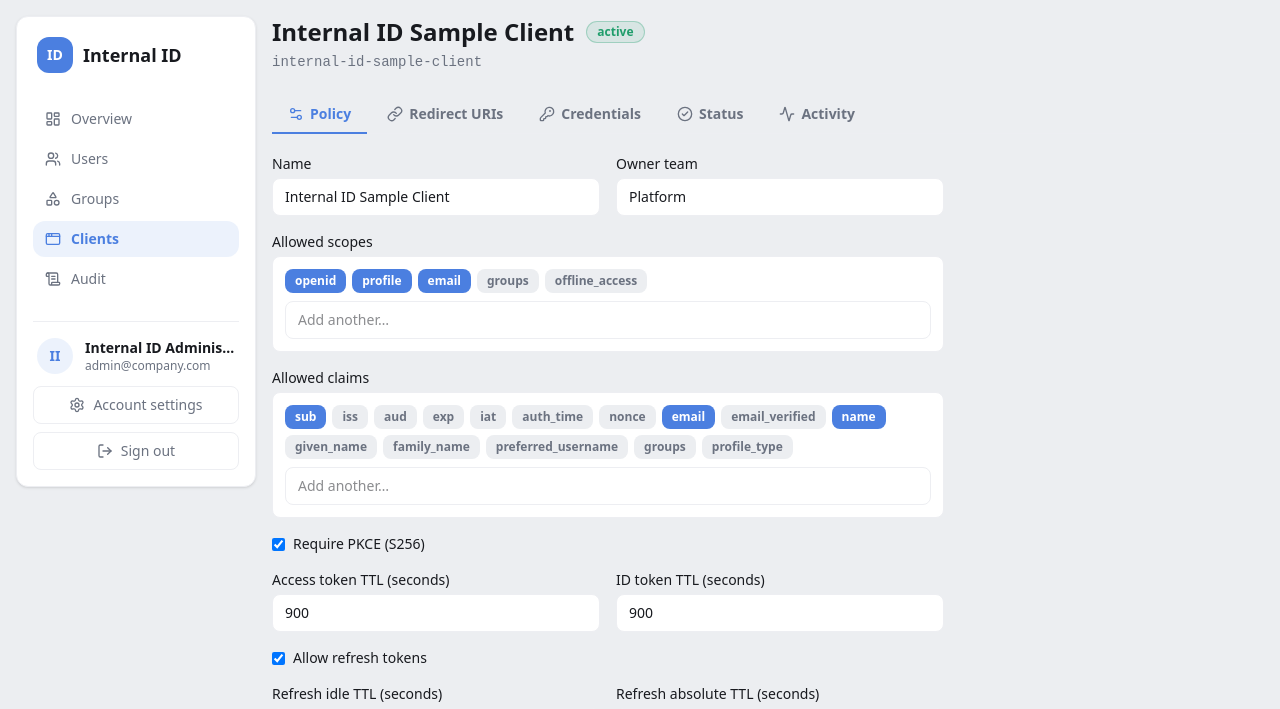
Scenario: rotating a secret confirms then reveals it once
The image size is (1280, 709).
Click the tab "Credentials" at [590, 115], box top-left (523, 96), bottom-right (657, 134)
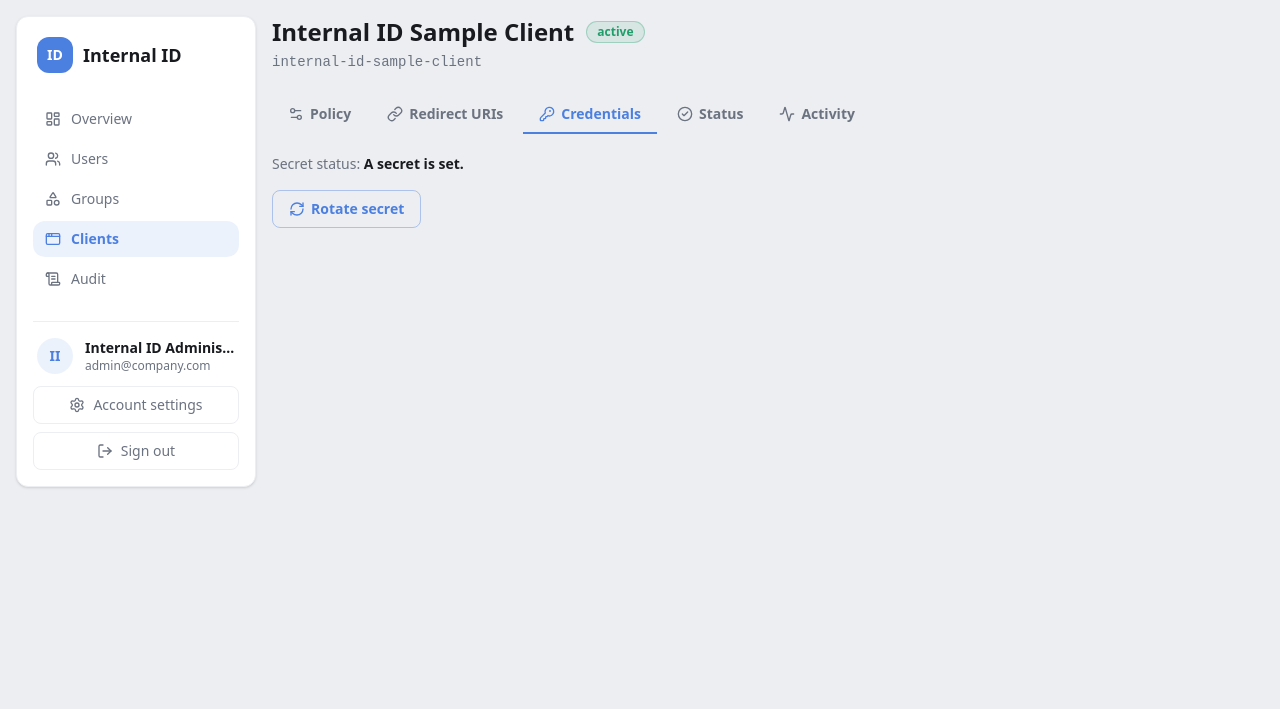
Click the button "Rotate secret" at [347, 209], box top-left (272, 190), bottom-right (421, 228)
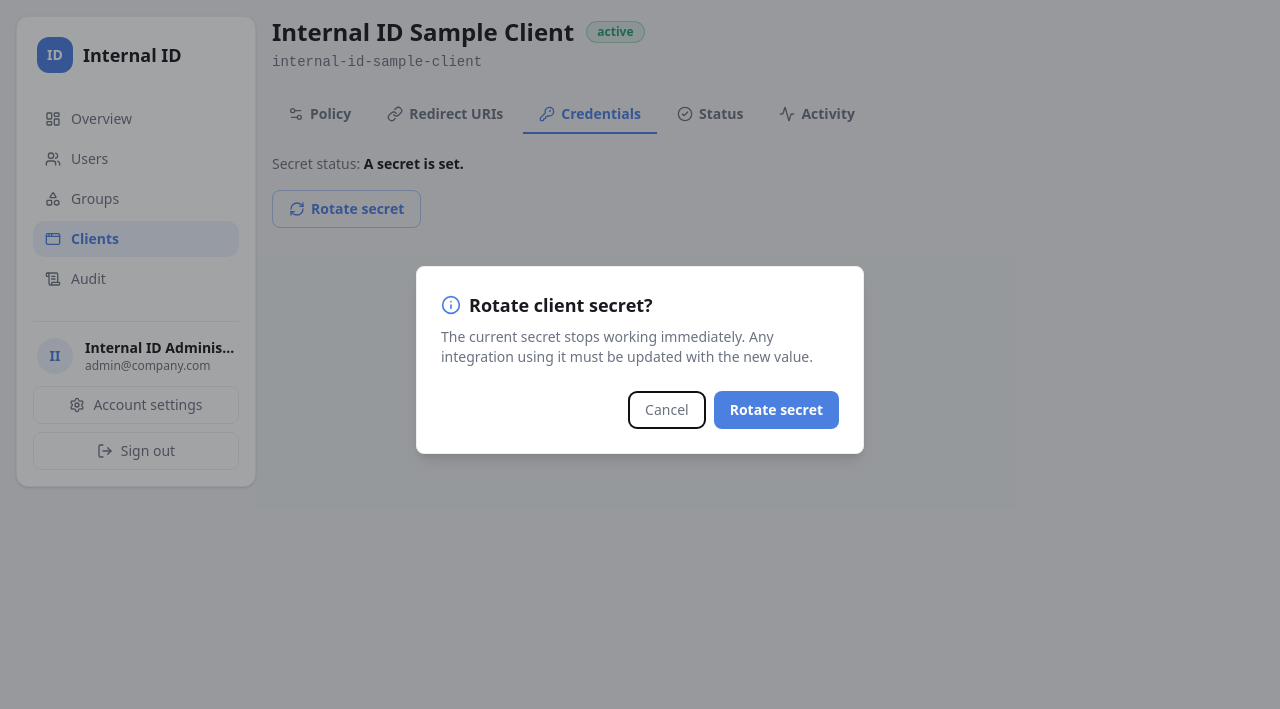
Click the button "Rotate secret" at [776, 410], box top-left (714, 391), bottom-right (839, 429)
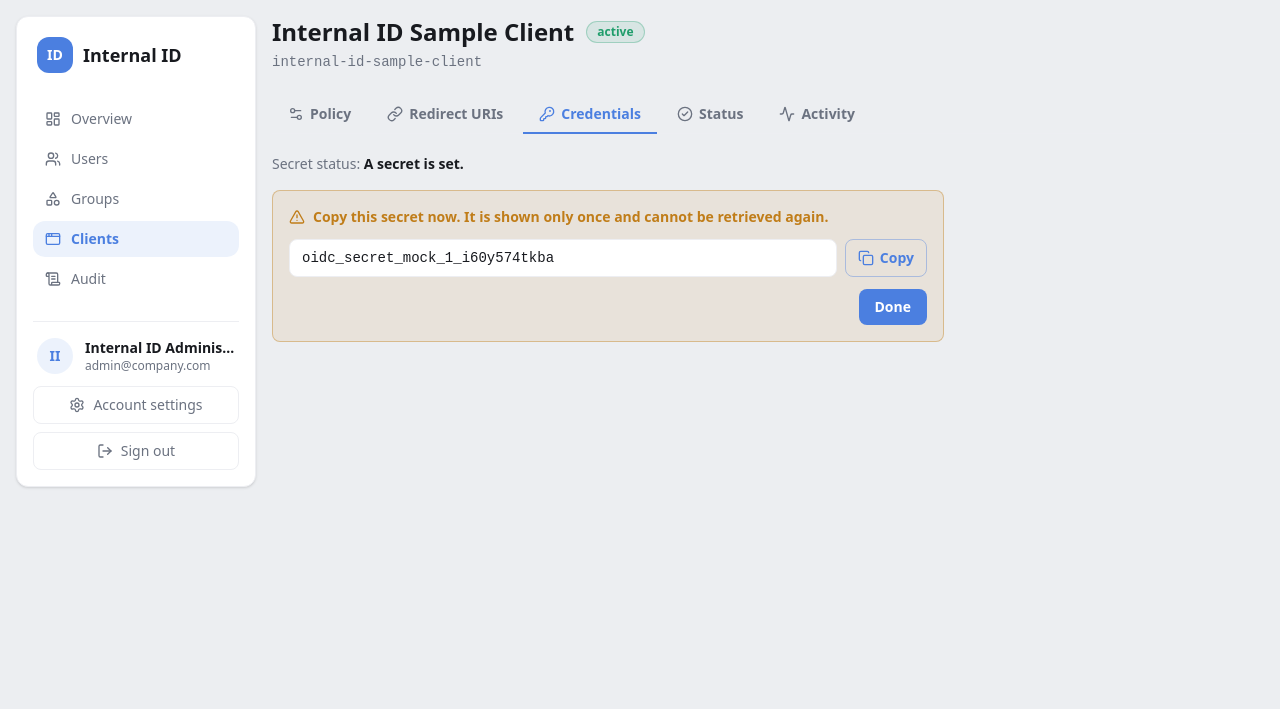
Check: the text "shown only once" is shown, box top-left (313, 207), bottom-right (828, 226)
Check: the text "oidc_secret_mock_" is shown, box top-left (302, 250), bottom-right (554, 266)
// Dismiss: the secret is gone and not recoverable.
Click the button "Done" at [893, 307], box top-left (858, 289), bottom-right (927, 325)
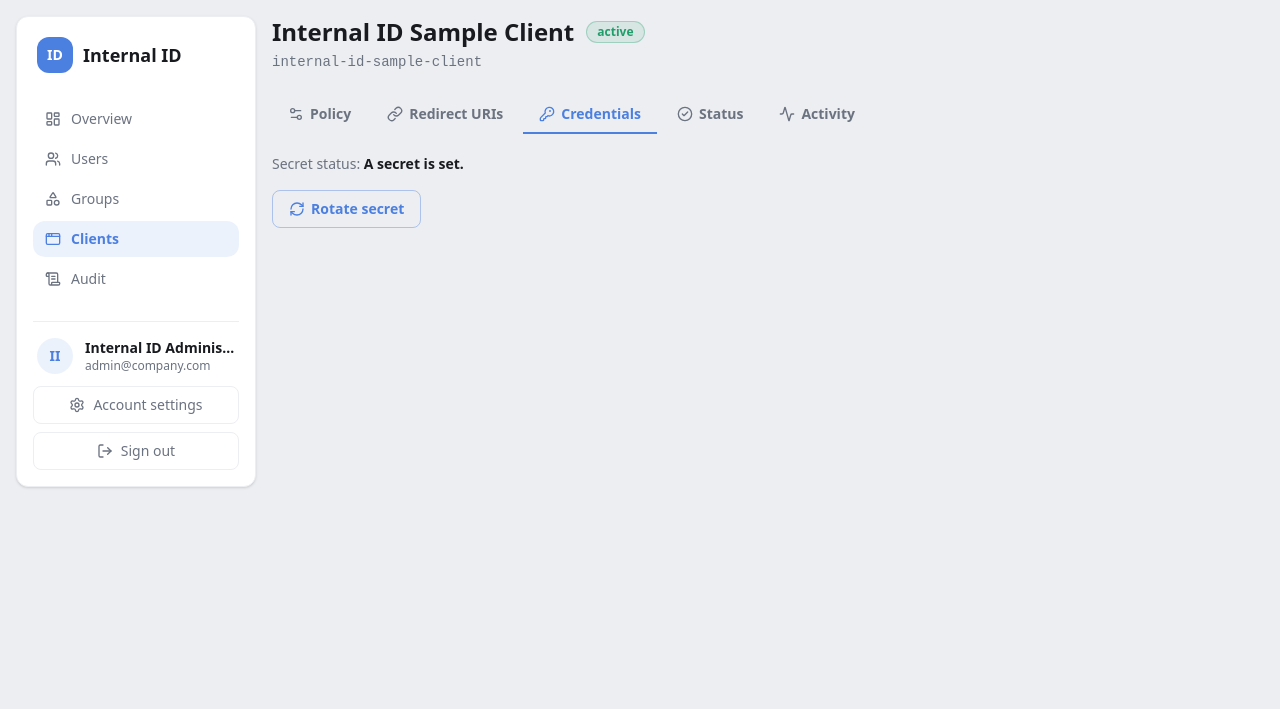
Check: the text "oidc_secret_mock_" is gone
